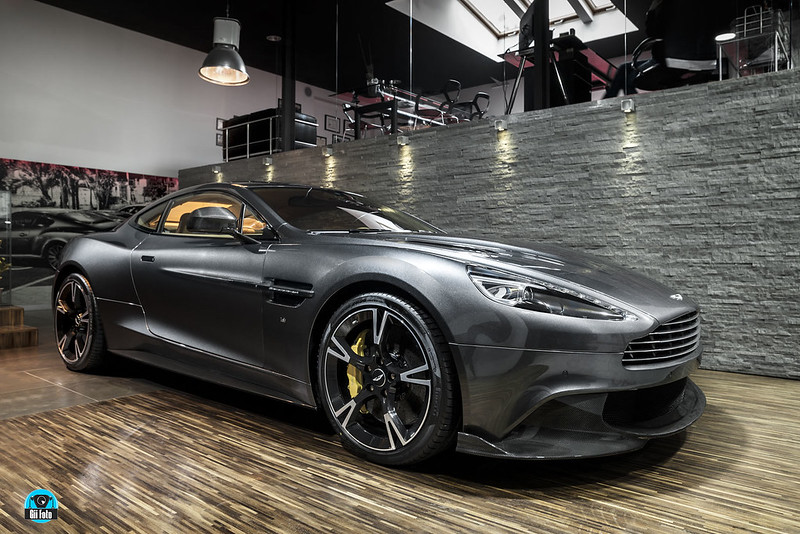car: (46, 171, 720, 478)
